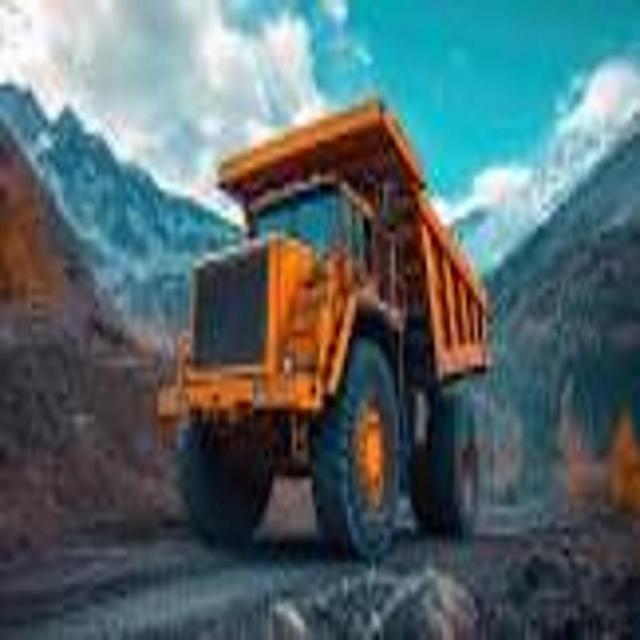dump_truck: (172, 103, 495, 560)
